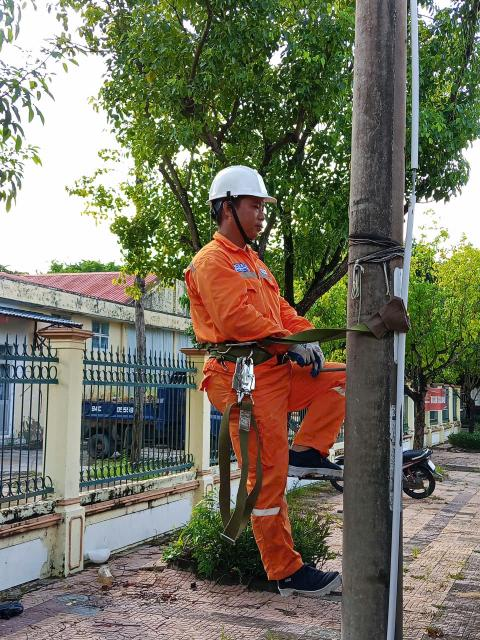gloves: (302, 331, 333, 379), (283, 338, 312, 375)
harness: (176, 317, 288, 368)
helmet: (179, 158, 287, 214)
shoes: (259, 544, 367, 606), (283, 441, 371, 495)
